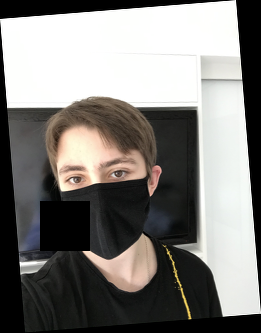with_mask: (60, 142, 151, 261)
